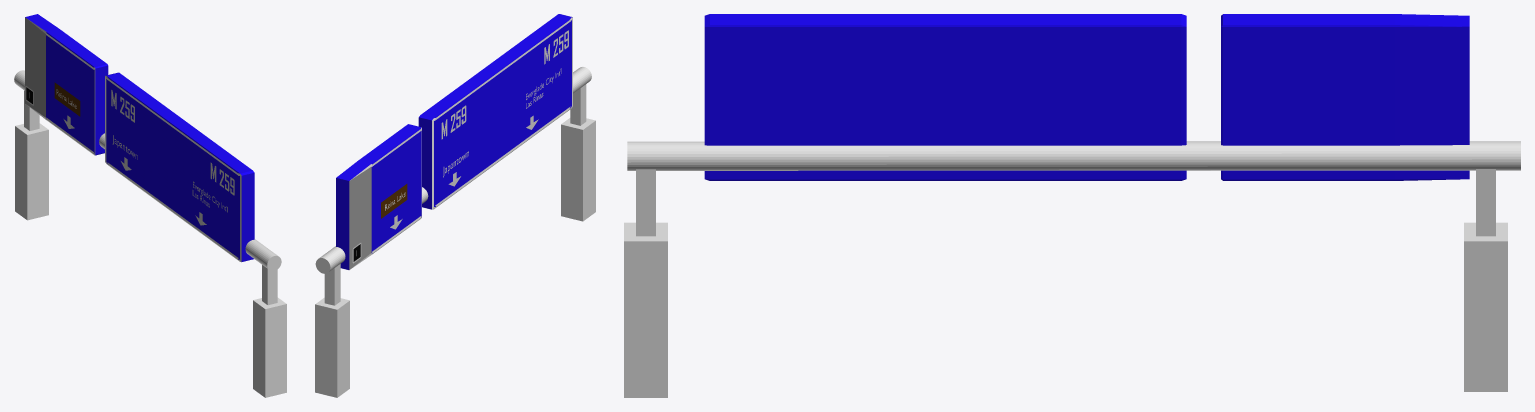
File: UK_Motorway_gantry_1.fbx
3 renders of one model, left to right at view 1: azimuth 30°, elevation 25°; view 2: azimuth 150°, elevation 25°; view 3: azimuth 270°, elevation 25°, orthographic. The views are drawn at different scales.
Visible parts, largest first — view 1: Cube.003, Cube.001, Cube.002, Cube, Cylinder, Plane.004, Text.005, Text.004; view 2: Cube.003, Cube.001, Cube.002, Cube, Cylinder, Plane.004, Text.004, Text.005; view 3: Cube.003, Cube.001, Cylinder, Cube.002, Cube.
Boxes of the visible parts, <box> form: Cube.003: <box>105,72,254,262</box>; Cube.001: <box>25,14,108,155</box>; Cube.002: <box>253,265,286,397</box>; Cube: <box>15,90,48,220</box>; Cylinder: <box>14,70,281,270</box>; Plane.004: <box>54,82,80,116</box>; Text.005: <box>210,162,234,195</box>; Text.004: <box>111,90,134,122</box>; Cube.003: <box>418,14,572,209</box>; Cube.001: <box>336,124,421,269</box>; Cube.002: <box>561,84,595,221</box>; Cube: <box>315,264,349,397</box>; Cylinder: <box>315,67,591,273</box>; Plane.004: <box>381,184,407,218</box>; Text.004: <box>441,105,466,139</box>; Text.005: <box>544,30,568,64</box>; Cube.003: <box>704,14,1186,180</box>; Cube.001: <box>1221,14,1469,180</box>; Cylinder: <box>627,141,1520,170</box>; Cube.002: <box>624,169,667,397</box>; Cube: <box>1464,169,1507,391</box>.
Bounding box in the file's own units: 6.66 × 55.12 × 123.
